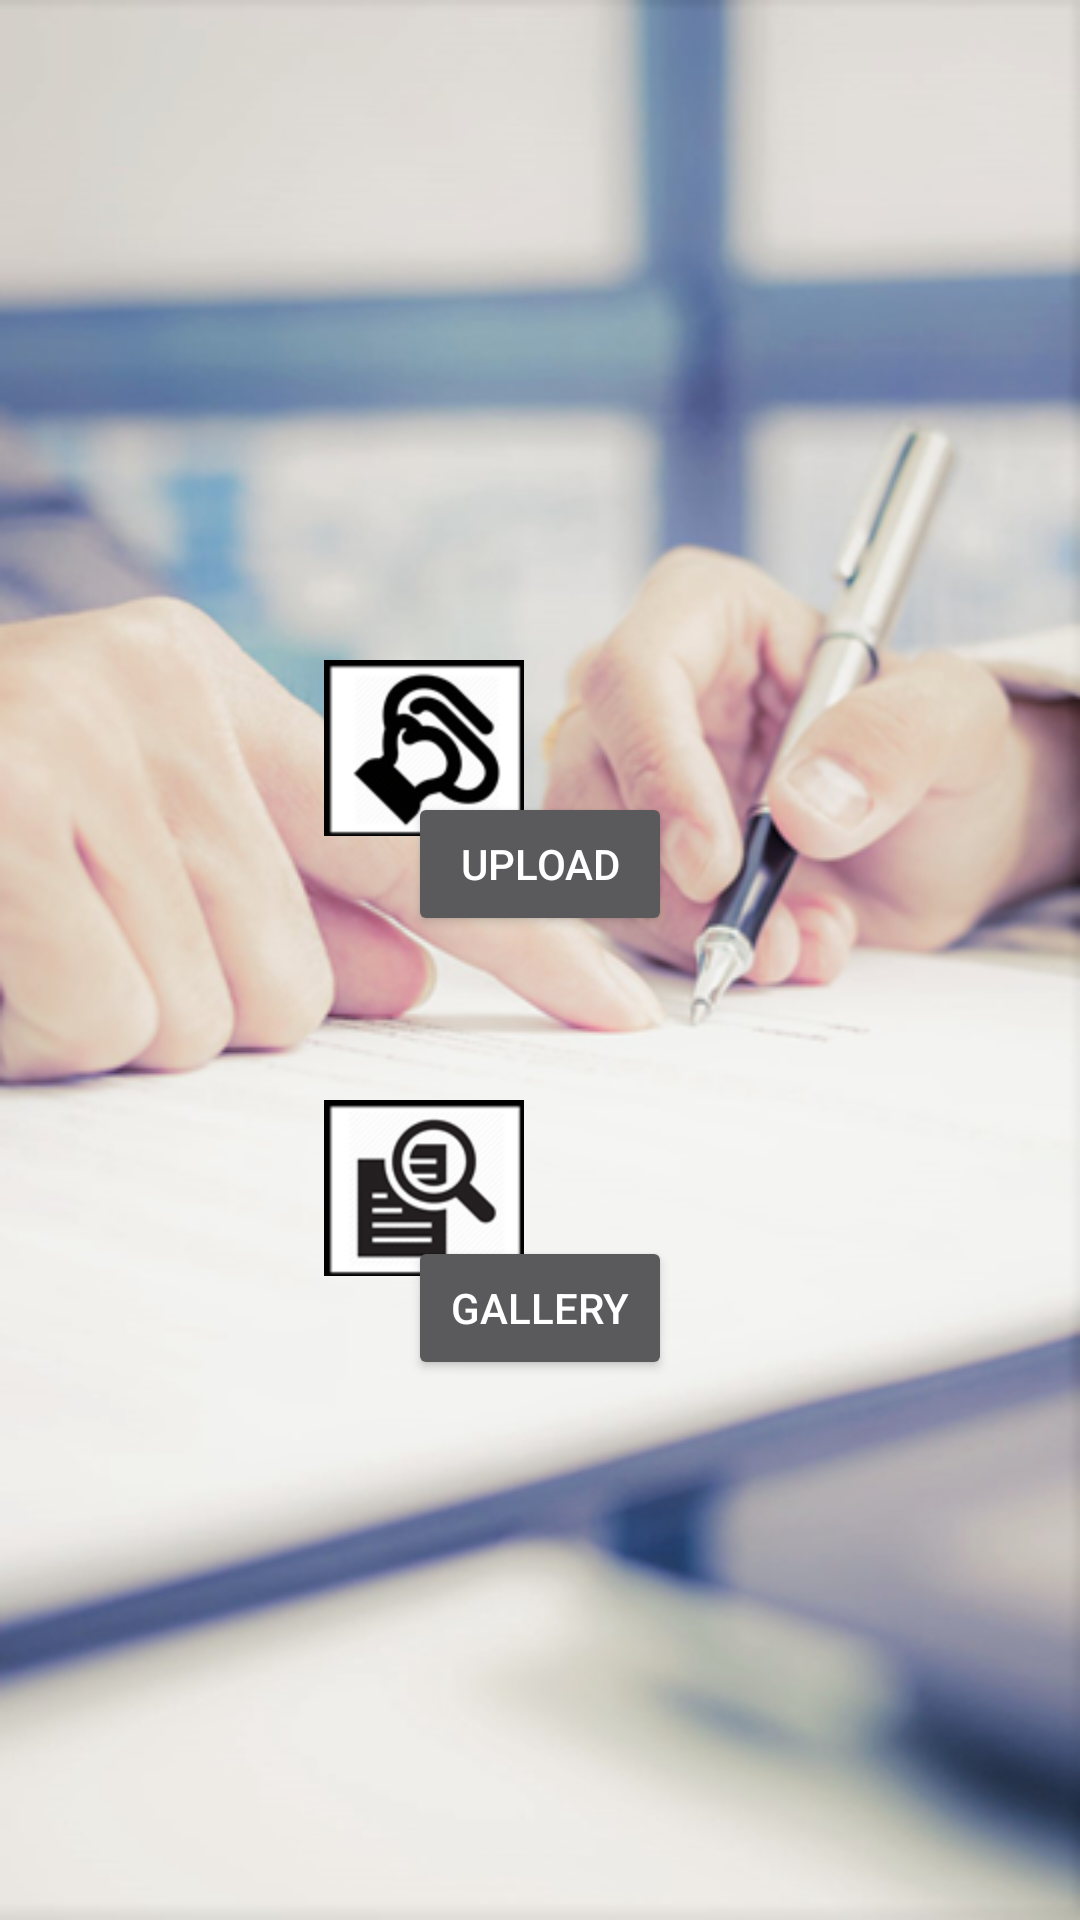

Icon click points for this 1080 × 1920 phone screenshot, format (x,y):
view: (424,1188)
